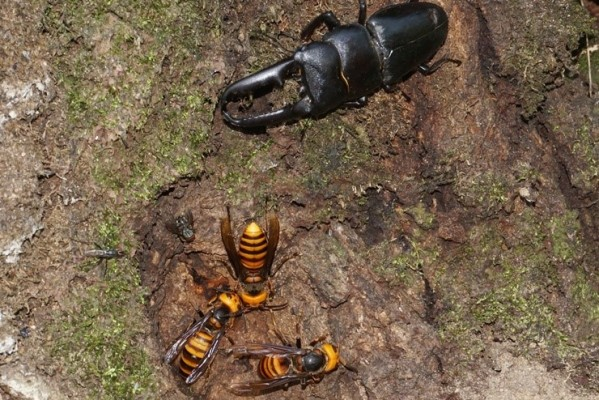asian_giant_hornet: (232, 332, 341, 398), (215, 215, 288, 313), (167, 289, 243, 383)
